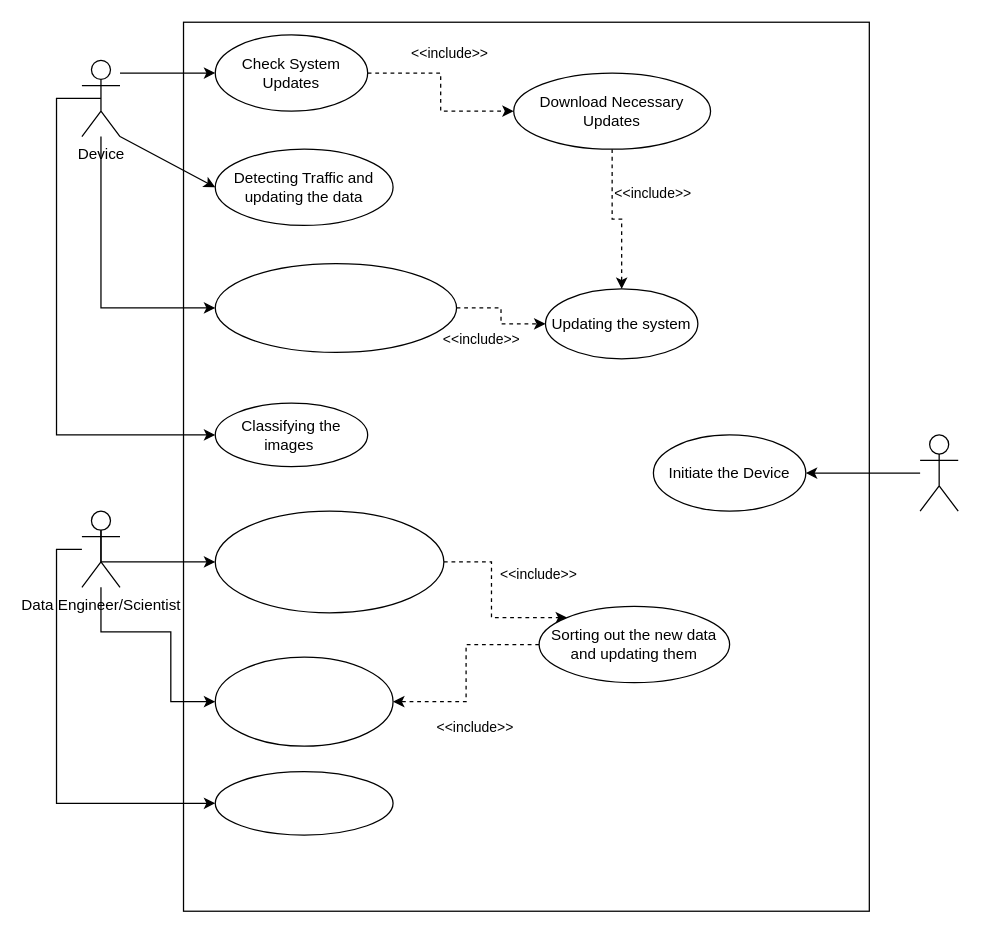
The diagram is 982 pixels wide and 944 high, and some of its shapes have lost their labels. The box of each missing label's shape, as (x1, y1, x2, y2) in pixels:
Creating the training Data and training the device model: (214, 510, 444, 613)
Driver: (919, 434, 958, 511)
Retraining the model with new data: (214, 656, 393, 746)
Save the Traffic Data and transfer them among the system: (214, 262, 457, 352)
Updating the Traffic Map: (214, 770, 393, 835)
